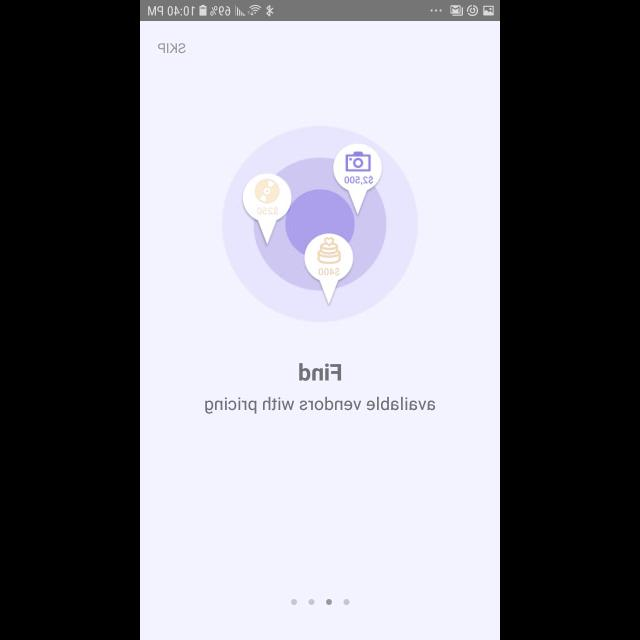image: (222, 125, 418, 322)
pageindicator: (290, 598, 350, 606)
text: (205, 397, 435, 415), (299, 363, 341, 381), (158, 42, 186, 54)
uppertaskbar: (140, 1, 500, 22)
